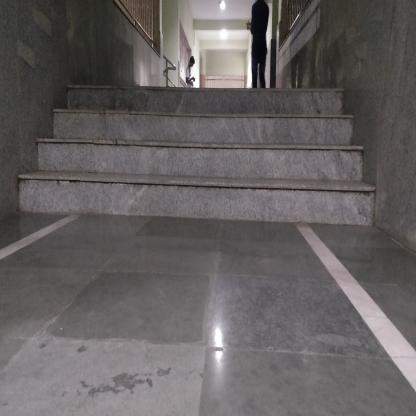stairs: (69, 84, 348, 232)
